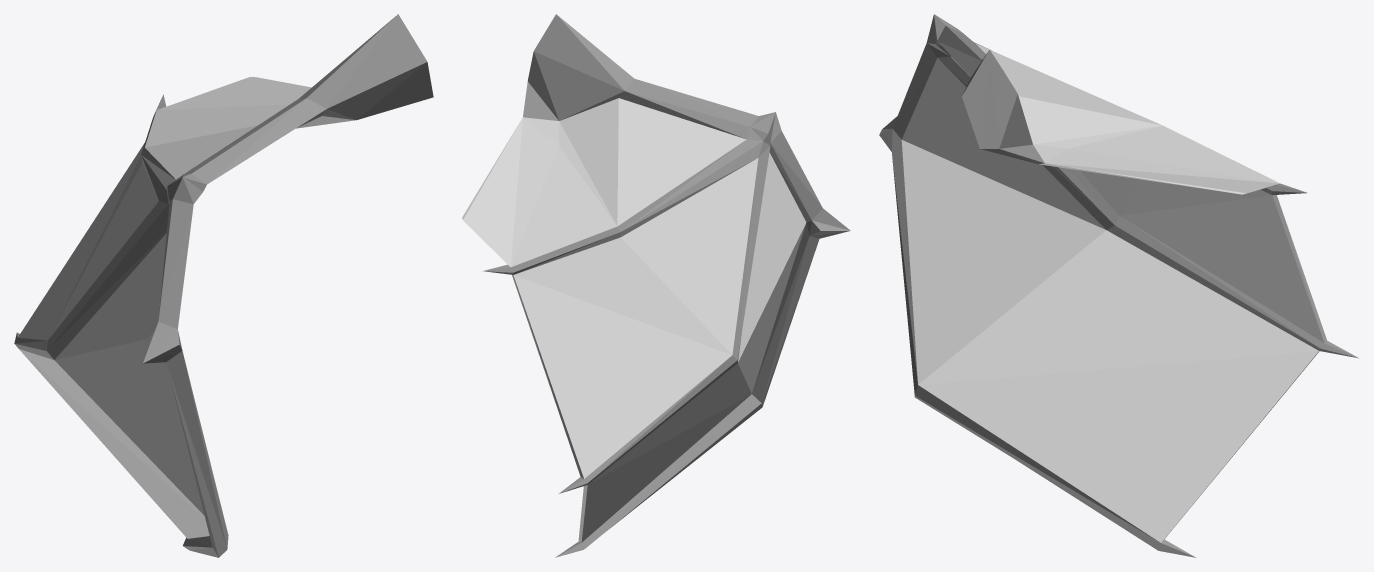
The model's file is Enemy_Bat_Flap_End.fbx.
The picture shows the model from 3 angles, left to right: view 1: azimuth 30°, elevation 25°; view 2: azimuth 150°, elevation 25°; view 3: azimuth 270°, elevation 25°; orthographic projection. The views are drawn at different scales.
Visible parts, largest first — view 1: Enemy_Bat_Flap_End; view 2: Enemy_Bat_Flap_End; view 3: Enemy_Bat_Flap_End.
Part boxes in pixels (<box>): Enemy_Bat_Flap_End: <box>14,14,433,557</box>; Enemy_Bat_Flap_End: <box>462,14,850,557</box>; Enemy_Bat_Flap_End: <box>879,14,1358,557</box>.
Size of the model in its own units: 184 by 294 by 230.
